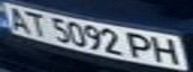0: (63, 19, 84, 47)
2: (100, 26, 127, 56)
5: (45, 15, 72, 44)
9: (81, 22, 103, 52)
A: (0, 3, 33, 33)
H: (148, 35, 187, 66)
P: (124, 29, 160, 61)
T: (21, 9, 51, 37)
